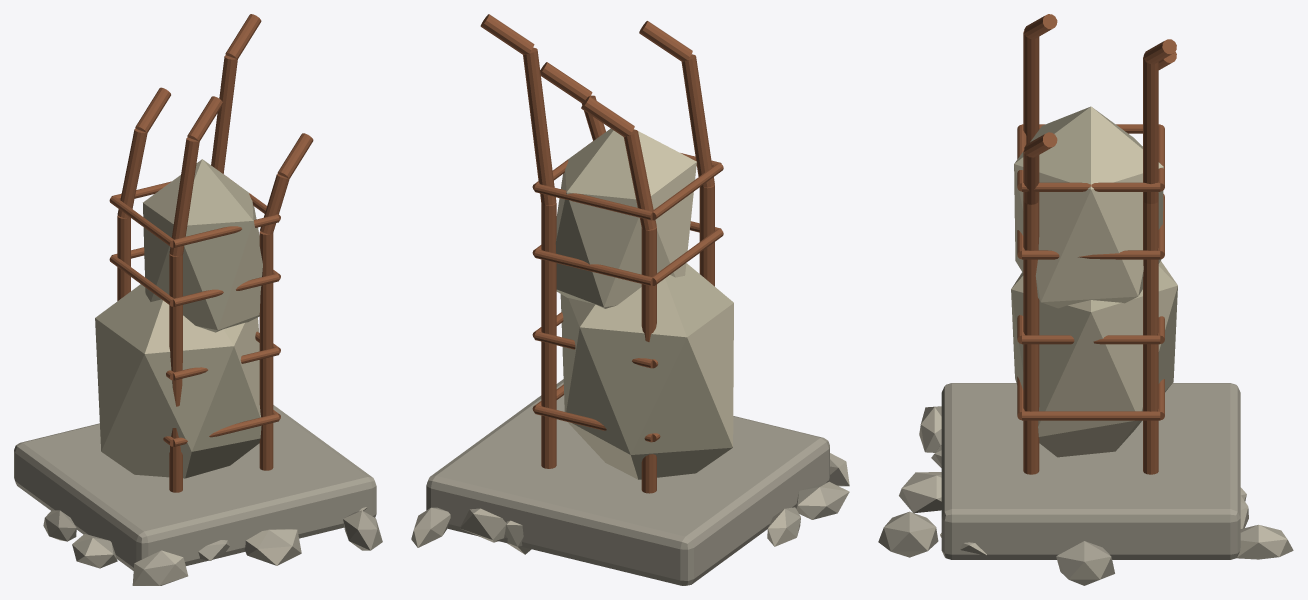
Rendered from Column_Burst_Rebar.glb.
The picture shows the model from 3 angles, left to right: view 1: azimuth 30°, elevation 25°; view 2: azimuth 150°, elevation 25°; view 3: azimuth 270°, elevation 25°; orthographic projection. The views are drawn at different scales.
Parts seen in each view (by area): view 1: Column base, Sheared column core, Sheared column core.001, Column vertical bar.003, Column vertical bar, Broken concrete aggregate.009, Column vertical bar.010, Column vertical bar.001, Broken concrete aggregate.007, Broken concrete aggregate.010, Column vertical bar.007, Broken concrete aggregate.019 (+13 smaller); view 2: Column base, Sheared column core, Sheared column core.001, Column vertical bar.009, Column vertical bar.010, Column vertical bar.006, Column vertical bar.001, Broken concrete aggregate.019, Column vertical bar.007, Column vertical bar, Reinforcement tie.014, Reinforcement tie.010 (+11 smaller); view 3: Column base, Sheared column core.001, Sheared column core, Column vertical bar.003, Column vertical bar.009, Column vertical bar.010, Broken concrete aggregate.010, Broken concrete aggregate.004, Column vertical bar.001, Broken concrete aggregate.017, Broken concrete aggregate.009, Reinforcement tie.001 (+5 smaller).
Boxes of the visible parts, box(x1,y1,x2,y2) form: Column base: box(14, 405, 376, 570); Sheared column core: box(95, 284, 261, 478); Sheared column core.001: box(143, 159, 262, 332); Column vertical bar.003: box(259, 231, 273, 470); Column vertical bar: box(169, 254, 182, 492); Broken concrete aggregate.009: box(244, 529, 301, 565); Column vertical bar.010: box(211, 55, 237, 173); Column vertical bar.001: box(169, 137, 199, 256); Broken concrete aggregate.007: box(132, 550, 188, 585); Broken concrete aggregate.010: box(343, 510, 382, 550); Column vertical bar.007: box(117, 128, 147, 218); Broken concrete aggregate.019: box(72, 534, 117, 568); Column base: box(426, 379, 829, 585); Sheared column core: box(560, 263, 733, 479); Sheared column core.001: box(555, 128, 696, 308); Column vertical bar.009: box(541, 203, 556, 468); Column vertical bar.010: box(523, 47, 556, 205); Column vertical bar.006: box(641, 227, 656, 493); Column vertical bar.001: box(681, 54, 714, 187); Broken concrete aggregate.019: box(796, 481, 849, 519); Column vertical bar.007: box(623, 129, 656, 230); Column vertical bar: box(699, 184, 714, 286); Reinforcement tie.014: box(534, 184, 652, 220); Reinforcement tie.010: box(534, 249, 652, 286); Column base: box(941, 383, 1240, 559); Sheared column core.001: box(1014, 106, 1163, 308); Sheared column core: box(1011, 261, 1177, 457); Column vertical bar.003: box(1023, 200, 1039, 474); Column vertical bar.009: box(1143, 200, 1158, 474); Column vertical bar.010: box(1143, 57, 1158, 203); Broken concrete aggregate.010: box(878, 511, 938, 557); Broken concrete aggregate.004: box(1056, 541, 1114, 585); Column vertical bar.001: box(1023, 31, 1039, 143); Broken concrete aggregate.017: box(1236, 524, 1293, 559); Broken concrete aggregate.009: box(899, 472, 941, 513); Reinforcement tie.001: box(1022, 411, 1160, 420).
Size of the model in its own units: 2.12 by 3.09 by 2.22.
